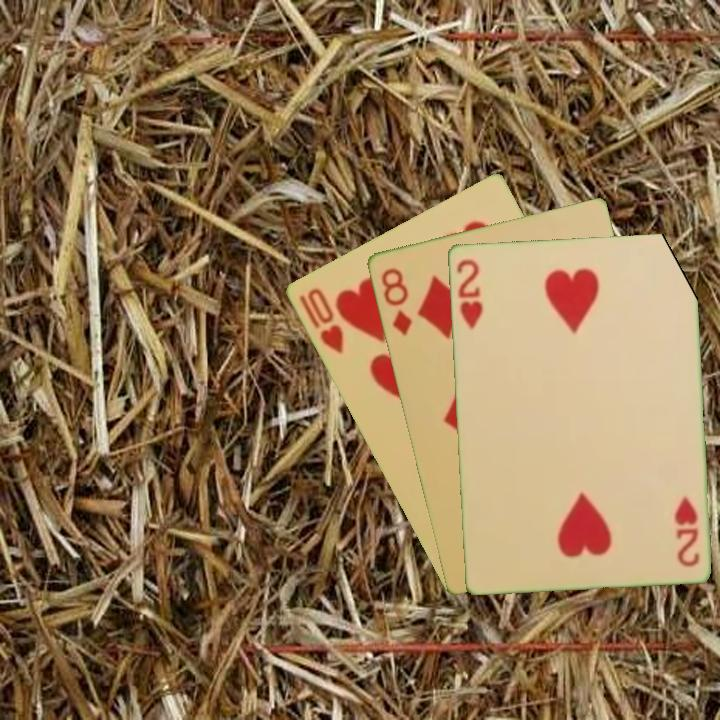10h: (294, 284, 346, 357)
2h: (452, 255, 485, 331), (670, 492, 702, 569)
8d: (377, 264, 415, 338)
